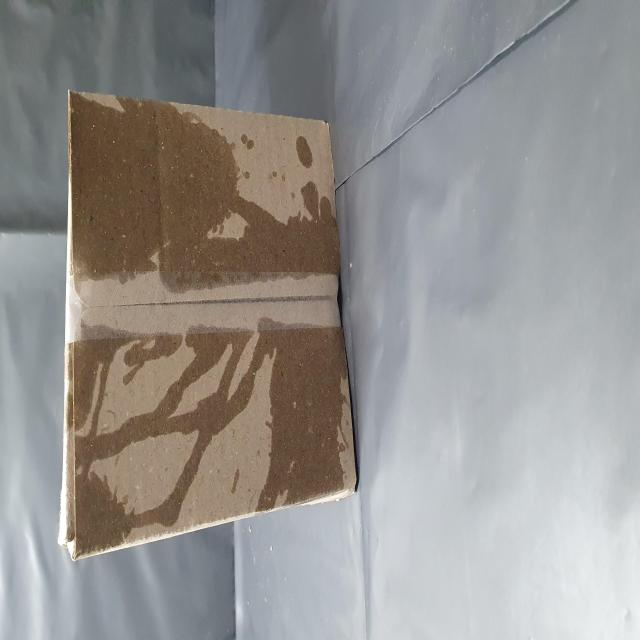wet: (46, 110, 175, 615), (201, 124, 300, 600)
